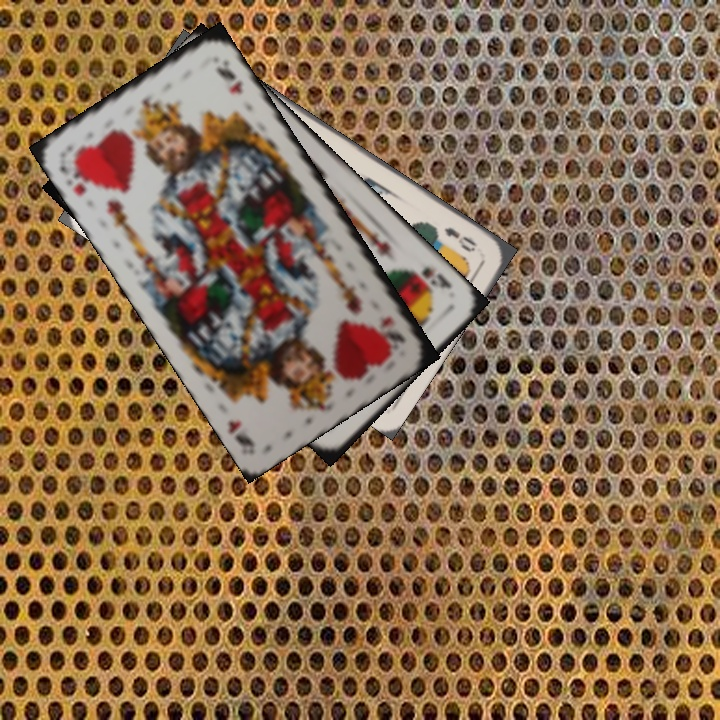EO: (440, 223, 480, 255)
HK: (55, 156, 89, 198), (378, 312, 408, 346)
SK: (417, 262, 454, 292)
